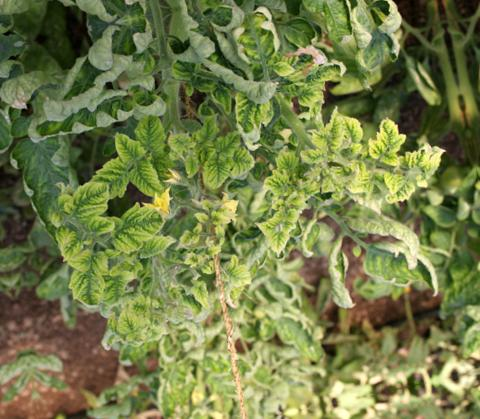Tomato leaf yellow virus: (371, 143, 450, 209), (46, 243, 115, 313), (97, 198, 171, 261), (243, 195, 313, 256), (316, 101, 370, 176), (62, 172, 123, 226), (358, 114, 413, 173), (204, 129, 256, 181), (122, 147, 164, 210), (130, 110, 169, 165), (197, 144, 237, 197), (230, 93, 273, 138), (108, 119, 145, 165), (263, 166, 295, 204)
